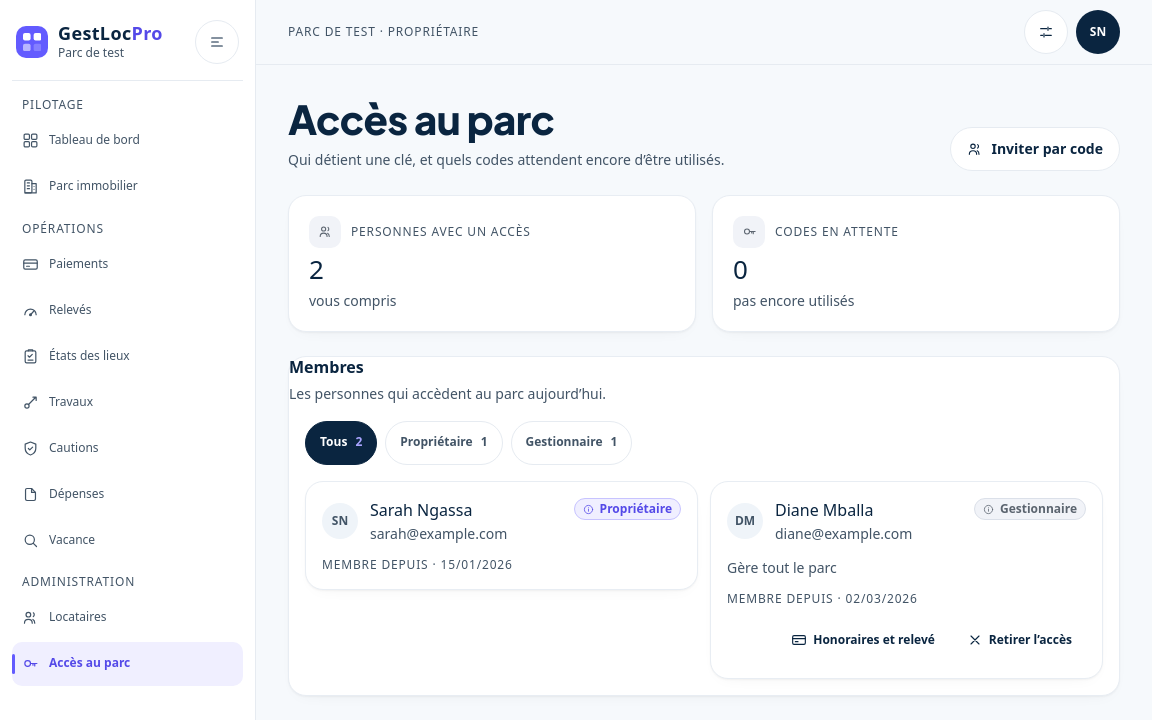
ce que la boîte dit du compte-rendu › ANNONCE LA DATE DU DOCUMENT une fois émis, et le taux qui l’explique
Click the button with aria-label "Honoraires et relevé — Diane Mballa".
click(863, 640)  # box [777,618,949,662]
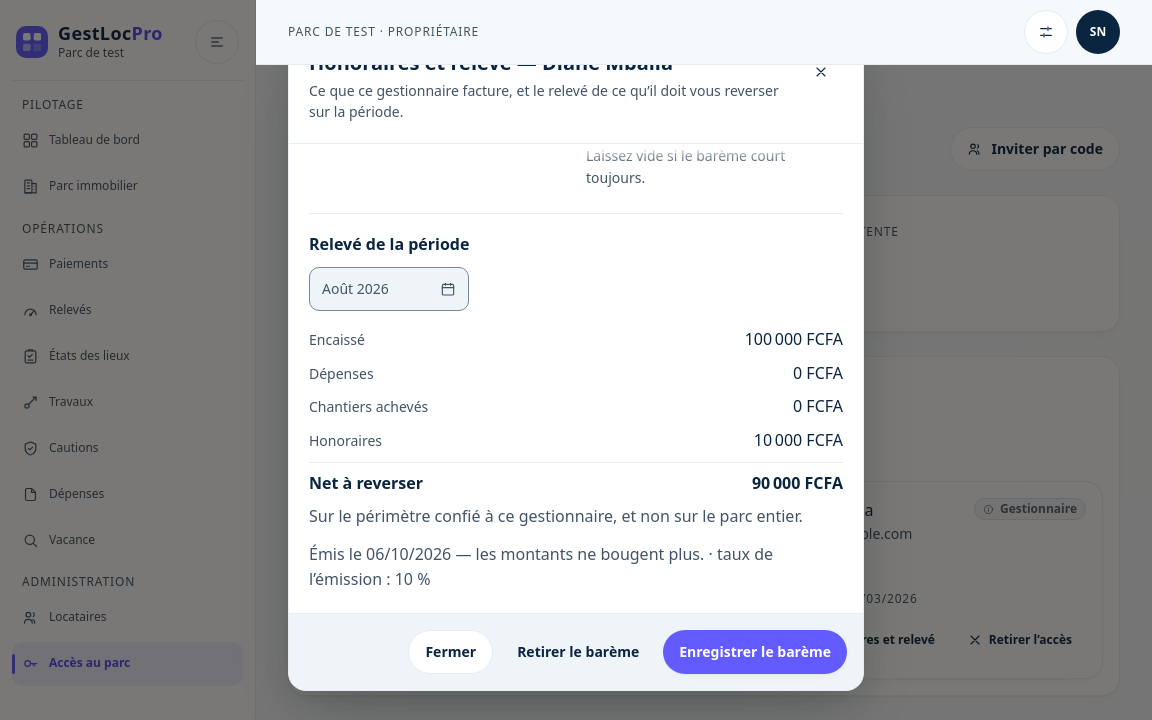
Check: the text "Émis le" is shown, box [309,543,704,565]
Check: the text "taux de l’émission : 10 %" is shown, box [309,543,773,590]
